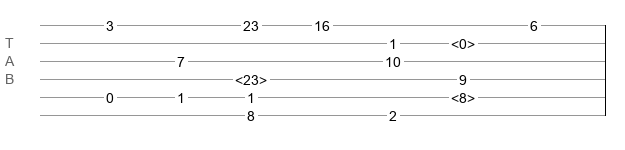0: (106, 90, 114, 100)
1: (177, 90, 185, 100), (247, 90, 255, 100), (389, 36, 397, 46)
10: (385, 54, 401, 64)
16: (314, 18, 330, 28)
2: (389, 108, 397, 118)
23: (243, 18, 259, 28)
3: (106, 18, 114, 28)
6: (530, 18, 538, 28)
7: (177, 54, 185, 64)
8: (247, 108, 255, 118)
9: (459, 72, 467, 82)
harmonic: (235, 72, 267, 82), (451, 36, 475, 46), (451, 90, 475, 100)
